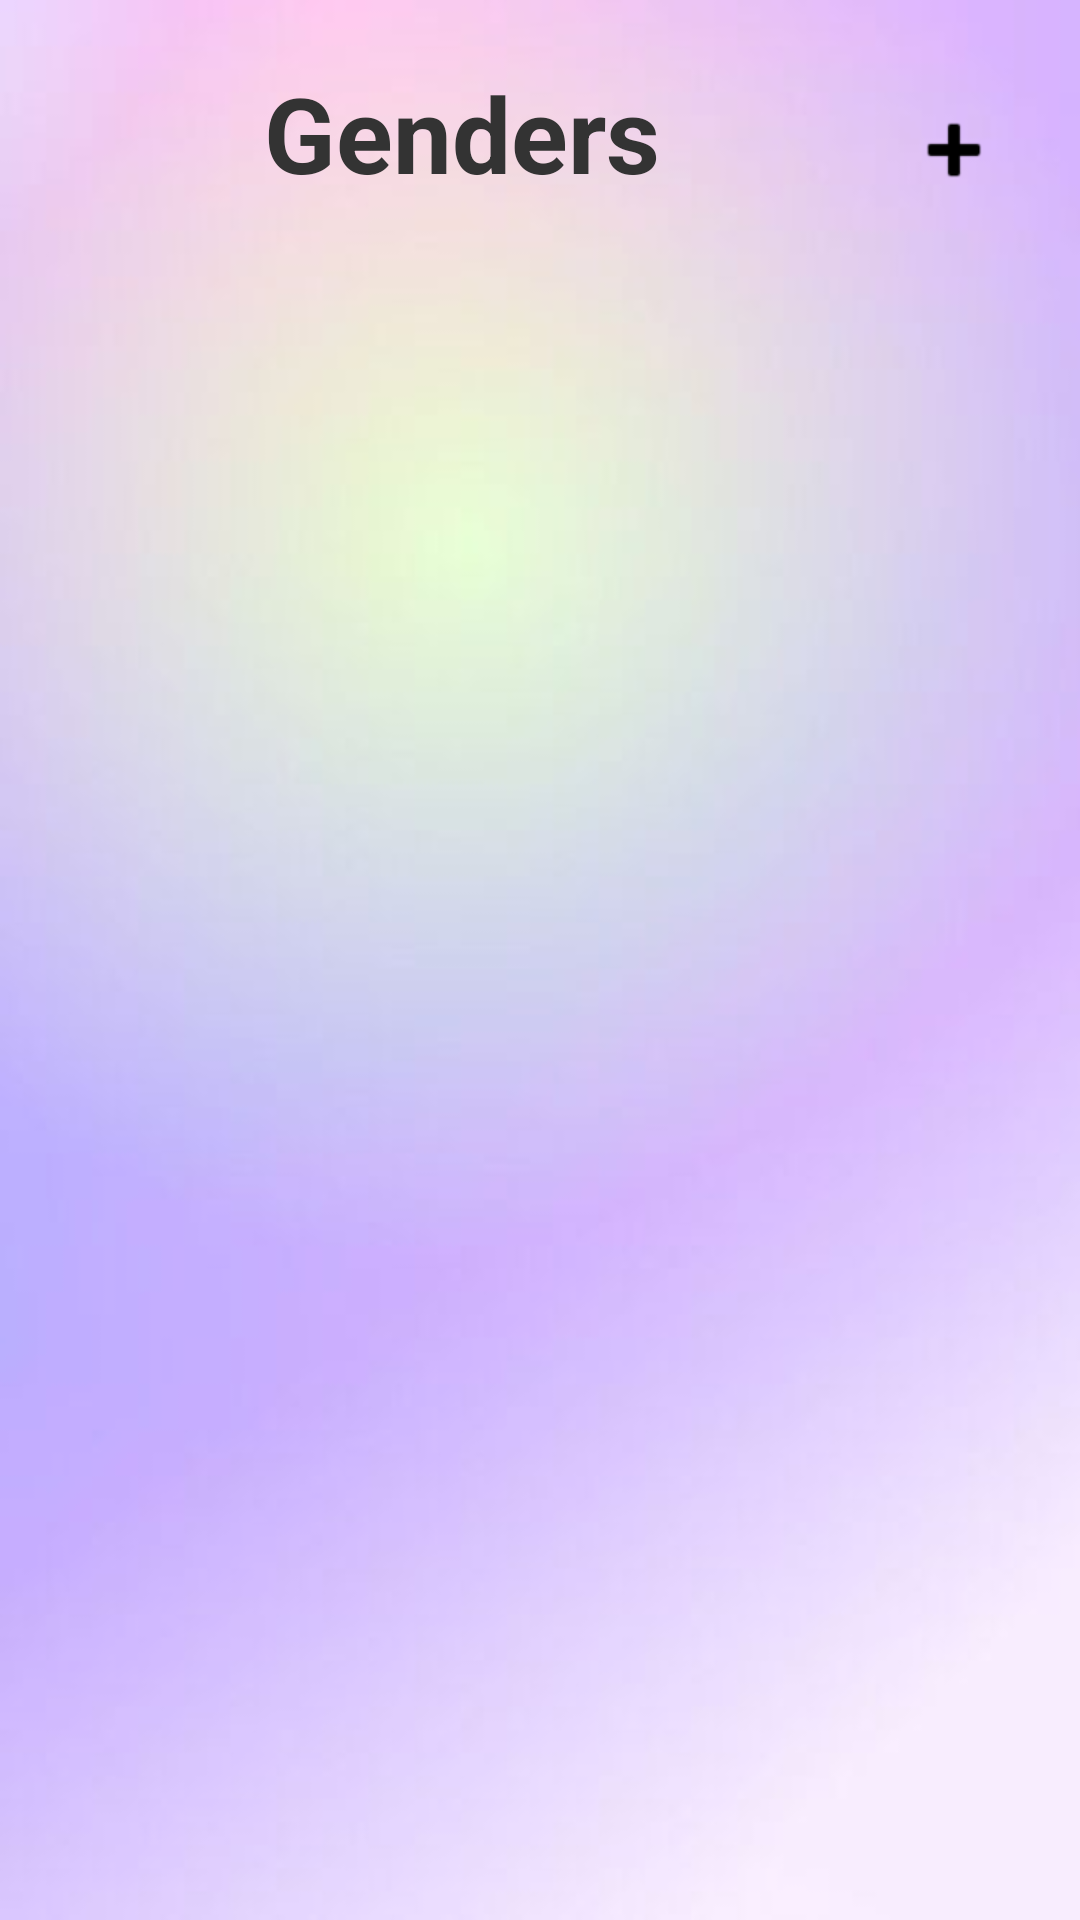

Icons on this 1080×1920 Android screen, each with its box as (x1, y1, x2, y2):
Add Colors: (927, 123, 981, 177)
